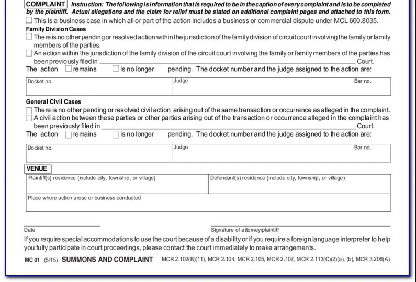checkbox: (64, 64, 73, 73), (111, 64, 120, 73), (65, 131, 73, 141), (112, 130, 120, 140), (24, 16, 33, 24), (24, 32, 33, 40), (24, 49, 33, 57), (25, 114, 32, 121), (26, 107, 32, 114)
textbox: (24, 191, 393, 215), (167, 76, 392, 98), (170, 142, 395, 164), (25, 173, 210, 196), (208, 173, 393, 196), (25, 76, 174, 98), (25, 142, 174, 164)
textline: (98, 56, 356, 65), (99, 122, 357, 131), (209, 219, 391, 228), (23, 219, 102, 229)
